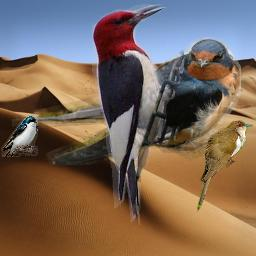Cuckoo: (197, 119, 253, 213)
Swallow: (12, 37, 241, 165), (1, 116, 38, 157)
Woodpecker: (92, 4, 184, 225)
